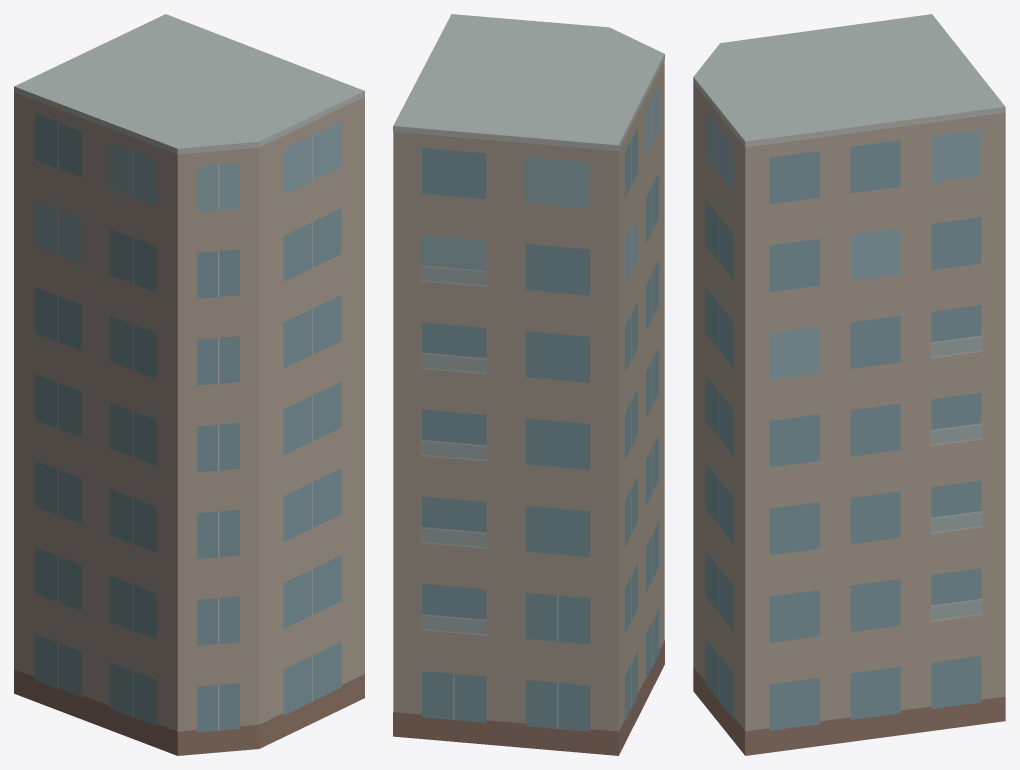
File: survey-upis-33035418.glb
3 views of the same model, side by side, from view 1: azimuth 30°, elevation 25°; view 2: azimuth 150°, elevation 25°; view 3: azimuth 270°, elevation 25° (orthographic).
Parts seen in each view (by area): view 1: survey-upis-33035418.tmp; view 2: survey-upis-33035418.tmp; view 3: survey-upis-33035418.tmp.
Boxes of the visible parts, left/top/right/bottom form: survey-upis-33035418.tmp: left=14, top=14, right=364, bottom=755; survey-upis-33035418.tmp: left=393, top=14, right=664, bottom=755; survey-upis-33035418.tmp: left=693, top=14, right=1005, bottom=755.
Size of the model in its own units: 11.35 by 25.45 by 11.73.
